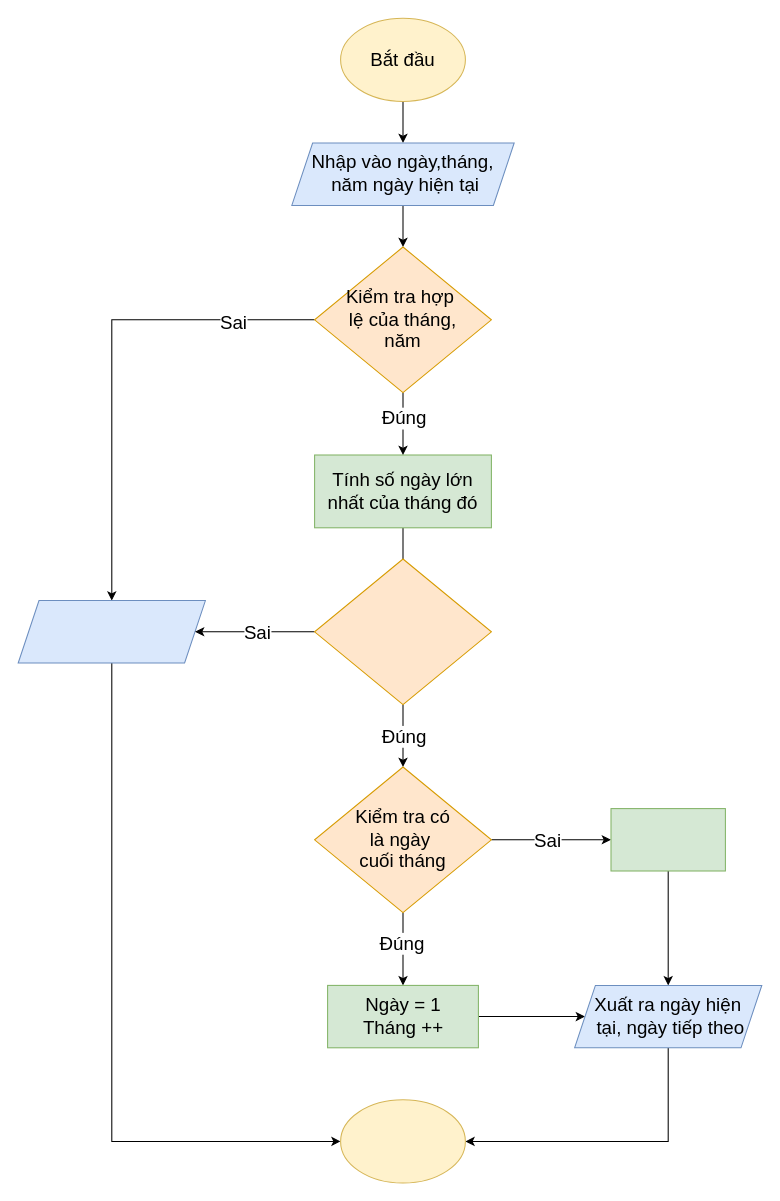
The diagram is 780 pixels wide and 1201 high, and some of its shapes have lost their labels. The box of each missing label's shape, as (x1, y1, x2, y2) in pixels:
Kiểm tra hợp lệ của ngày: (314, 558, 491, 705)
Kết thúc: (340, 1099, 465, 1183)
Ngày ++: (610, 808, 725, 871)
Ngày, tháng,năm không hợp lệ: (17, 600, 205, 663)
